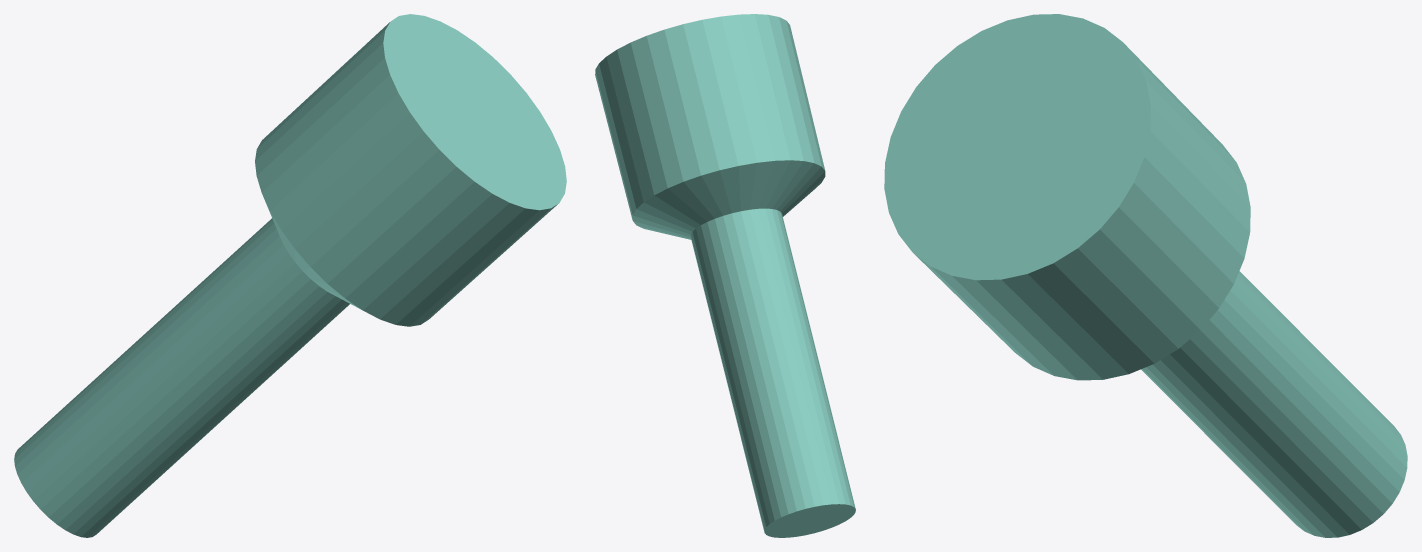
The model's file is left_wrist_z_link_visual_9.obj.
3 renders of one model, left to right at view 1: azimuth 30°, elevation 25°; view 2: azimuth 150°, elevation 25°; view 3: azimuth 270°, elevation 25°, orthographic. The views are drawn at different scales.
Visible parts, largest first — view 1: L_KidsBaseV4.008_visual.001; view 2: L_KidsBaseV4.008_visual.001; view 3: L_KidsBaseV4.008_visual.001.
Boxes of the visible parts, <box> form: L_KidsBaseV4.008_visual.001: <box>14,14,566,537</box>; L_KidsBaseV4.008_visual.001: <box>595,14,855,537</box>; L_KidsBaseV4.008_visual.001: <box>884,14,1407,537</box>.
Bounding box in the file's own units: 0.1212 × 0.1459 × 0.1101.
